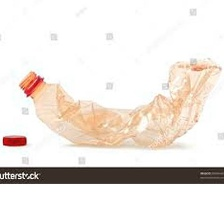bottle: (13, 55, 224, 151)
